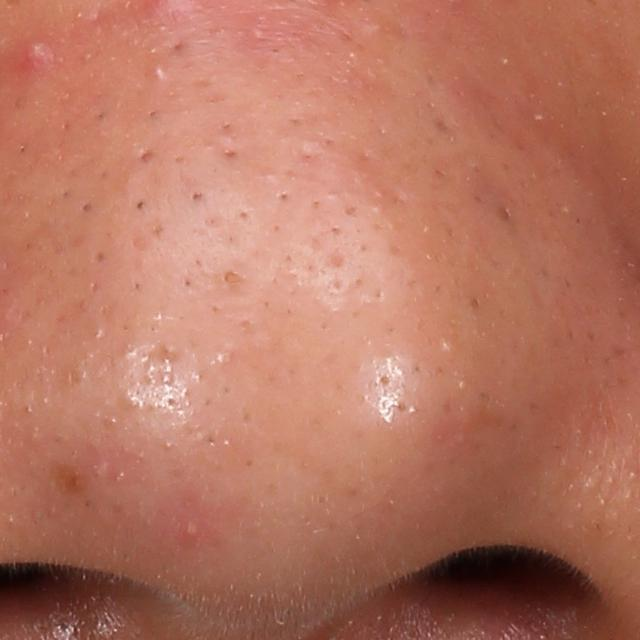atrophic_scar: (139, 145, 156, 166)
comedo: (275, 187, 295, 208), (222, 270, 244, 289), (188, 187, 208, 207), (77, 199, 97, 219), (131, 197, 150, 214)
papule: (19, 40, 54, 68)
